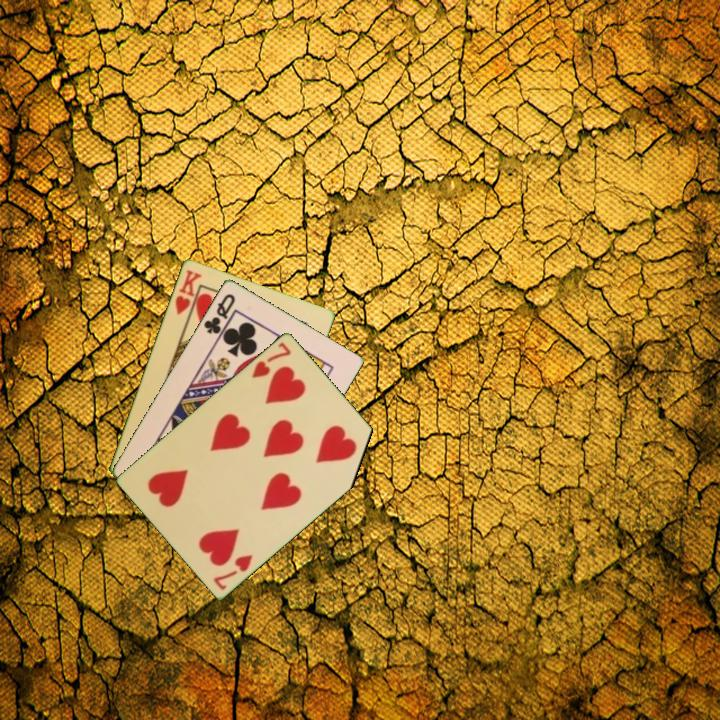7h: (248, 338, 294, 381), (209, 550, 255, 593)
Kh: (171, 266, 205, 323)
Qc: (200, 290, 238, 342)
